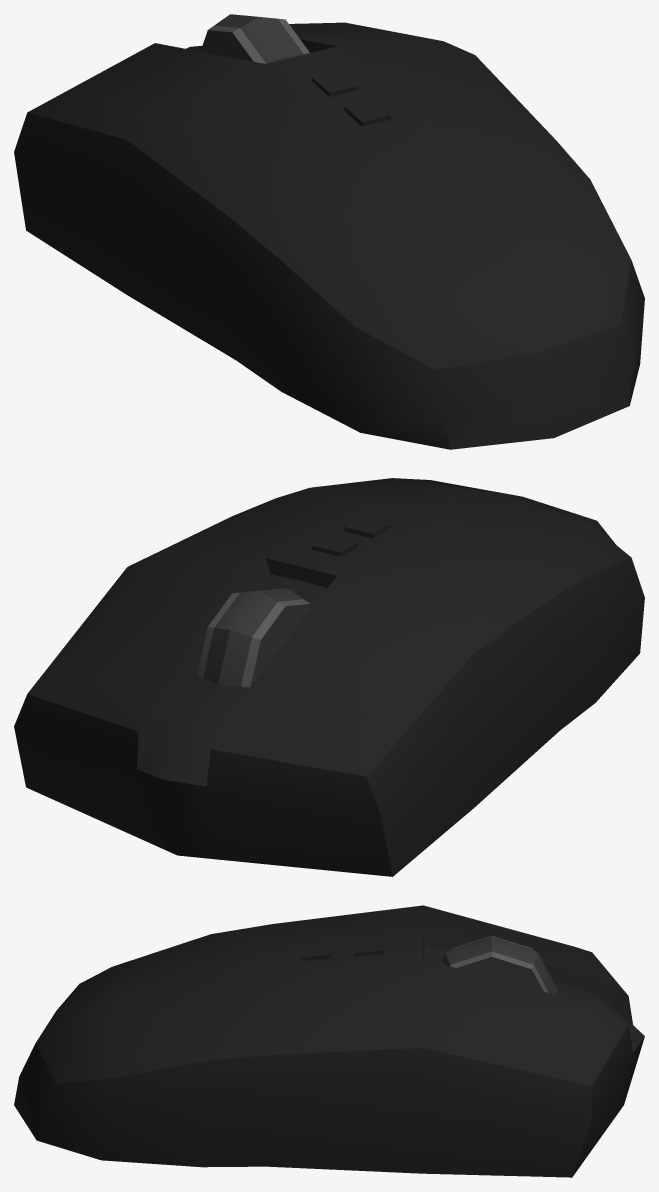
Rendered from PC_Mouse_1.obj.
3 renders of one model, top to bottom at view 1: azimuth 30°, elevation 25°; view 2: azimuth 150°, elevation 25°; view 3: azimuth 270°, elevation 25°, orthographic. The views are drawn at different scales.
Visible parts, largest first — view 1: PC_Mouse_1; view 2: PC_Mouse_1; view 3: PC_Mouse_1.
Boxes of the visible parts, x1,y1,x2,y2 form: PC_Mouse_1: [14, 14, 644, 449]; PC_Mouse_1: [14, 478, 644, 876]; PC_Mouse_1: [14, 905, 644, 1177].
Bounding box in the file's own units: 0.0936 × 0.0498 × 0.1715.
